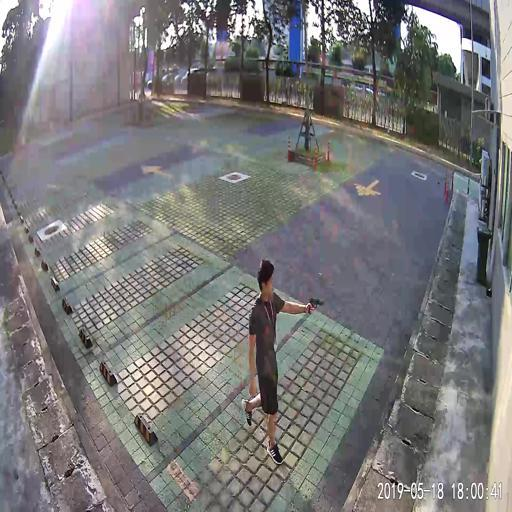Handgun: (305, 294, 324, 314)
